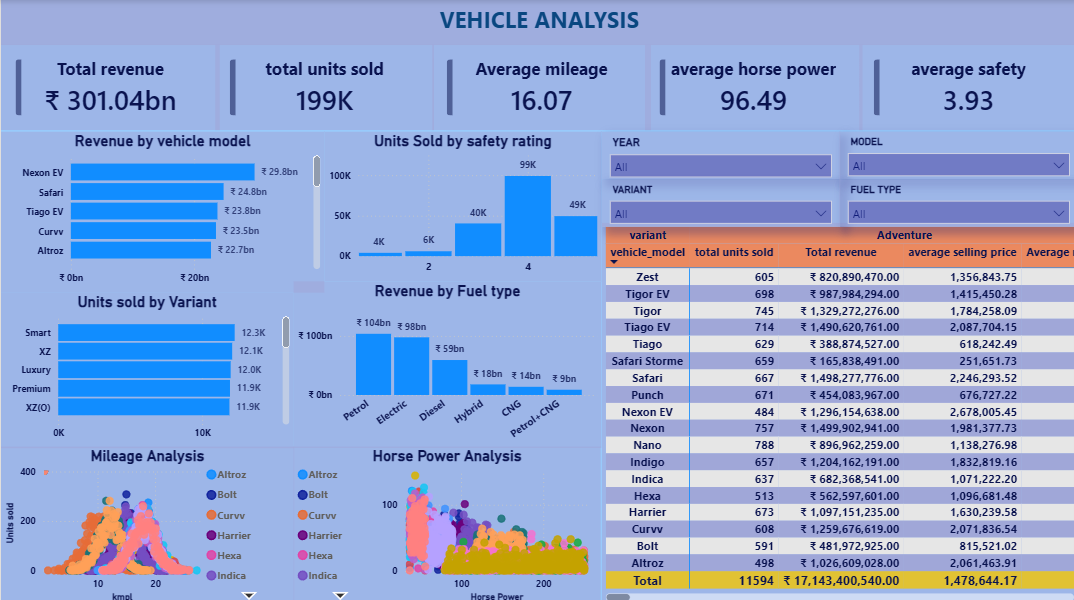

The dashboard page shown, as its layout file describes it:
{"tool":"powerbi","page":{"name":"vehicle analysis","canvas":[1280,720],"ordinal":1},"visuals":[{"type":"cardVisual","fields":{"Data":["date_table.Average mileage"]},"box":[511.7,53.3,260,101.7],"z":0},{"type":"cardVisual","fields":{"Data":["date_table.total units sold"]},"box":[255,53.3,260,101.7],"z":1000},{"type":"cardVisual","fields":{"Data":["date_table.Total revenue"]},"box":[0,53.3,260,101.7],"z":2000},{"type":"cardVisual","fields":{"Data":["date_table.average horse power"]},"box":[765,53.3,258.3,101.7],"z":3000},{"type":"cardVisual","fields":{"Data":["date_table.average safety"]},"box":[1020,53.3,260,101.7],"z":4000},{"type":"barChart","title":"Revenue by vehicle model","fields":{"Category":["sales_details.vehicle_model"],"Y":["date_table.Total revenue"]},"box":[0,156.4,384.3,191.3],"z":5000},{"type":"barChart","title":"Units sold by Variant","fields":{"Category":["vehicle_info.variant"],"Y":["date_table.total units sold"]},"box":[0,347.8,347.7,184.7],"z":6000},{"type":"clusteredColumnChart","title":"Revenue by Fuel type","fields":{"Category":["vehicle_info.fuel_type"],"Y":["date_table.Total revenue"]},"box":[347.8,334.4,366.1,198],"z":7000},{"type":"scatterChart","title":"Mileage Analysis","fields":{"Y":["date_table.total units sold"],"X":["vehicle_info.mileage_kmpl"],"Series":["vehicle_info.vehicle_model"]},"box":[0,530,348.3,190],"z":8000},{"type":"scatterChart","title":"Horse Power Analysis","fields":{"Y":["date_table.total units sold"],"X":["vehicle_info.horse_power"],"Series":["vehicle_info.vehicle_model"]},"box":[348.3,530,365,190],"z":9000},{"type":"clusteredColumnChart","title":"Units Sold by safety rating","fields":{"Category":["vehicle_info.safety_rating"],"Y":["date_table.total units sold"]},"box":[384.4,156.4,329.4,178],"z":10000},{"type":"pivotTable","fields":{"Rows":["vehicle_info.vehicle_model"],"Columns":["vehicle_info.variant"],"Values":["date_table.total units sold","date_table.Total revenue","date_table.average selling price","date_table.Average mileage"]},"box":[713.3,265,566.7,455],"z":11000},{"type":"slicer","title":"year","fields":{"Values":["date_table.year"]},"box":[713.3,156.7,283.3,56.7],"z":12000},{"type":"slicer","title":"year","fields":{"Values":["vehicle_info.variant"]},"box":[713.3,213.3,283.3,56.7],"z":13000},{"type":"slicer","title":"year","fields":{"Values":["vehicle_info.vehicle_model"]},"box":[996.7,156.7,283.3,56.7],"z":14000},{"type":"slicer","title":"year","fields":{"Values":["vehicle_info.fuel_type"]},"box":[996.7,213.3,283.3,56.7],"z":15000},{"type":"textbox","box":[0,0,1280,53.3],"z":16000}]}

Visuals, with their boxes in screenshot pixels (x1, y1, x2, y2), scaled from the page's 1280x720 canvas onto the 1074x600 screenshot:
cardVisual - date_table.Average mileage: l=429, t=44, r=648, b=129
cardVisual - date_table.total units sold: l=214, t=44, r=432, b=129
cardVisual - date_table.Total revenue: l=0, t=44, r=218, b=129
cardVisual - date_table.average horse power: l=642, t=44, r=859, b=129
cardVisual - date_table.average safety: l=856, t=44, r=1073, b=129
"Revenue by vehicle model" barChart: l=0, t=130, r=322, b=290
"Units sold by Variant" barChart: l=0, t=290, r=292, b=444
"Revenue by Fuel type" clusteredColumnChart: l=292, t=279, r=599, b=444
"Mileage Analysis" scatterChart: l=0, t=442, r=292, b=599
"Horse Power Analysis" scatterChart: l=292, t=442, r=599, b=599
"Units Sold by safety rating" clusteredColumnChart: l=323, t=130, r=599, b=279
pivotTable - vehicle_info.vehicle_model x vehicle_info.variant: l=599, t=221, r=1073, b=599
"year" slicer: l=599, t=131, r=836, b=178
"year" slicer: l=599, t=178, r=836, b=225
"year" slicer: l=836, t=131, r=1073, b=178
"year" slicer: l=836, t=178, r=1073, b=225
textbox: l=0, t=0, r=1073, b=44
